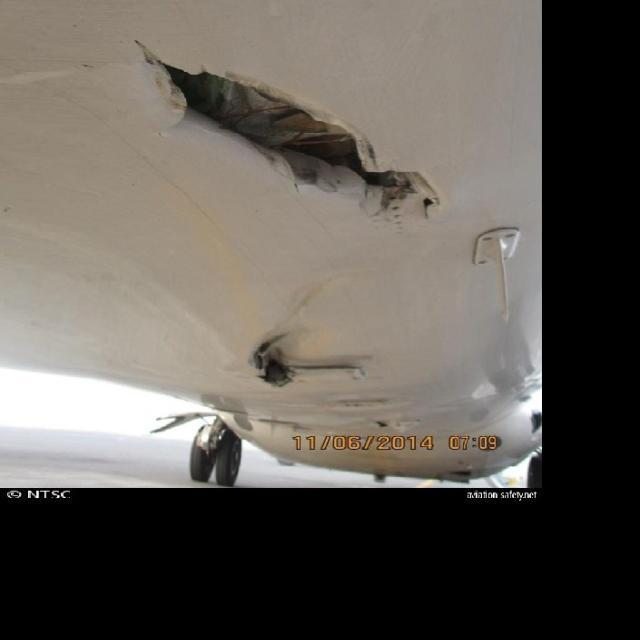crack: (133, 42, 446, 227)
